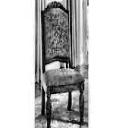chair_success: (37, 0, 89, 127)
